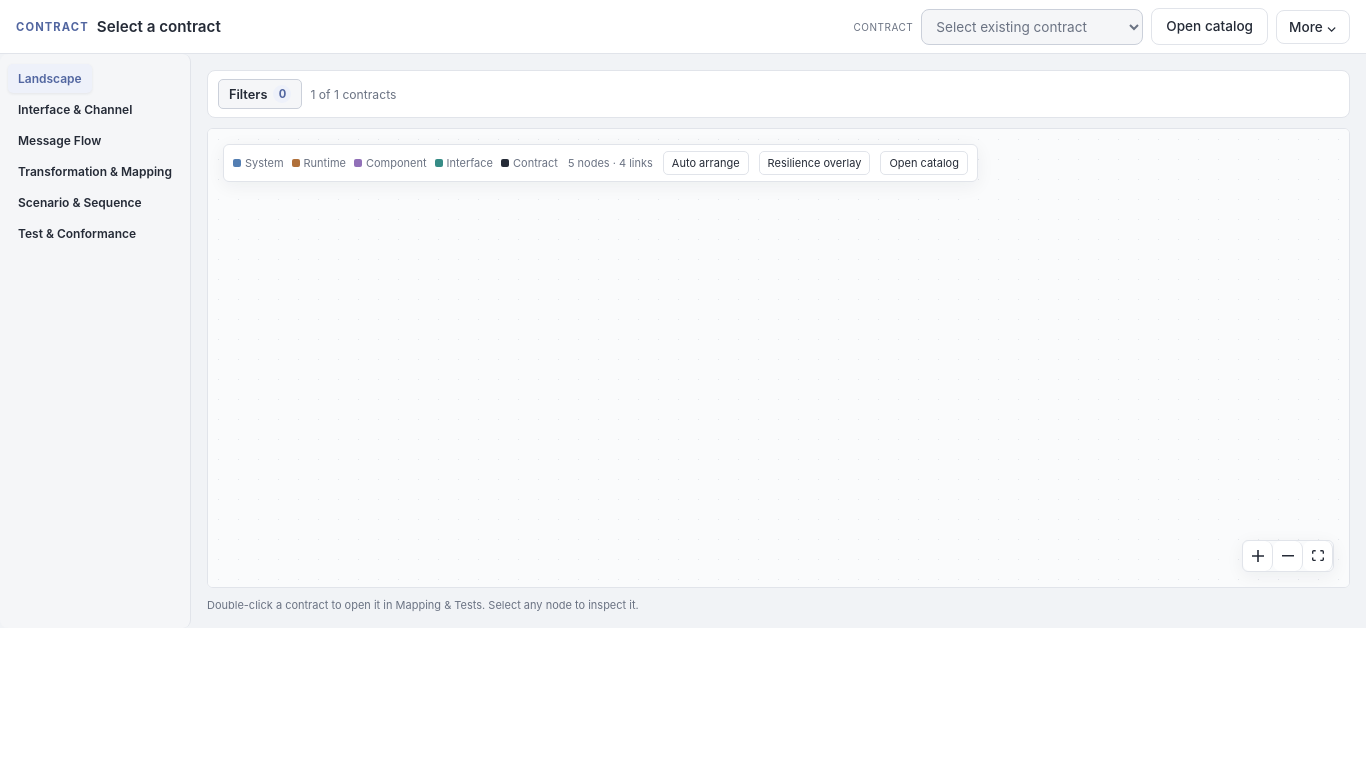
Test: IntegrationWorkbench › shows the interface and channel architecture
Select "Customer push · CRM→ERP" in the dropdown labelled "Contract" at (1032, 26), box [921, 8, 1143, 44]
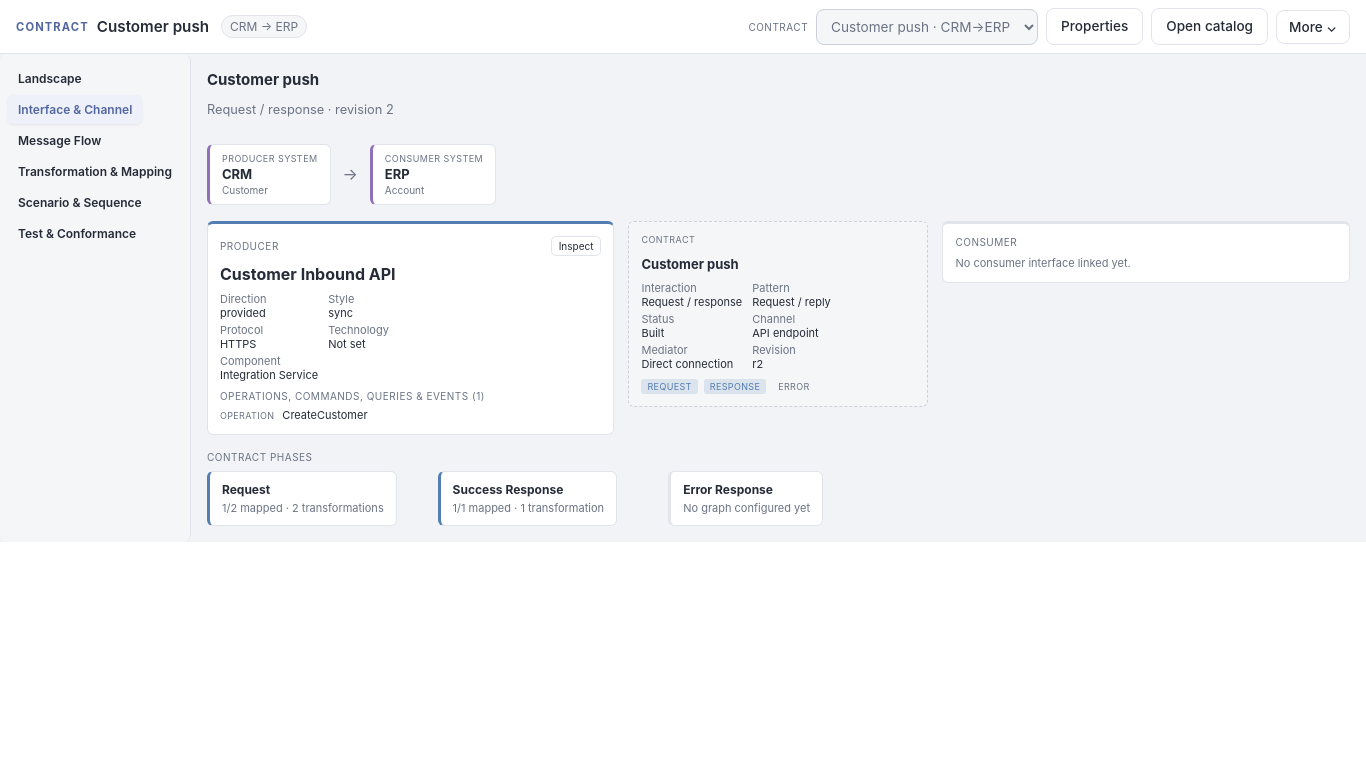
Now the text "Producer system" is shown, box [222, 153, 318, 164]
Now the text "CreateCustomer" is shown, box [282, 408, 368, 422]
Now the text "API endpoint" is shown, box [752, 326, 819, 340]
